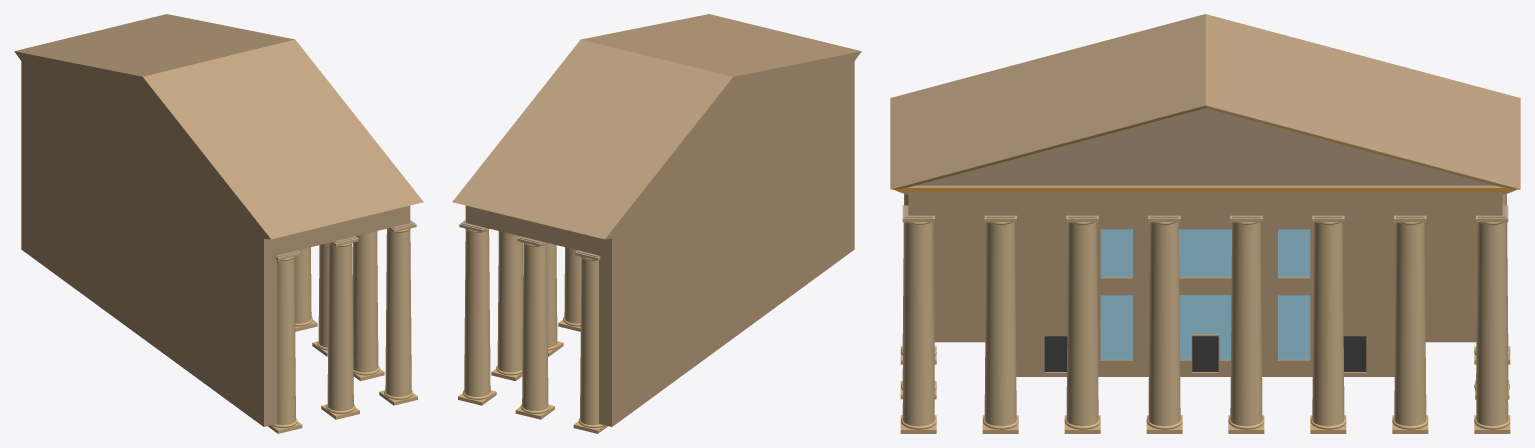
File: KemDramTheater.glb
3 renders of one model, left to right at view 1: azimuth 30°, elevation 25°; view 2: azimuth 150°, elevation 25°; view 3: azimuth 270°, elevation 25°, orthographic. The views are drawn at different scales.
Visible parts, largest first — view 1: Твердое тело1 (×7); view 2: Твердое тело1 (×7); view 3: Твердое тело1 (×9).
Part boxes in pixels (x1=…): Твердое тело1 (×7): x1=14, y1=14, x2=423, y2=433; Твердое тело1 (×7): x1=452, y1=14, x2=861, y2=433; Твердое тело1 (×9): x1=890, y1=14, x2=1520, y2=433.
Size of the model in its own units: 0.024 by 0.0404 by 0.07.
